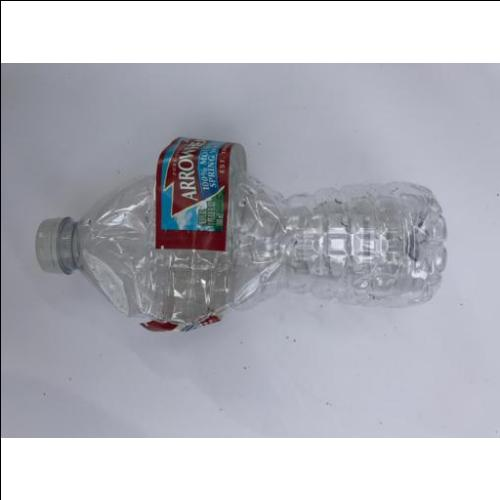plastic: (37, 139, 447, 330)
